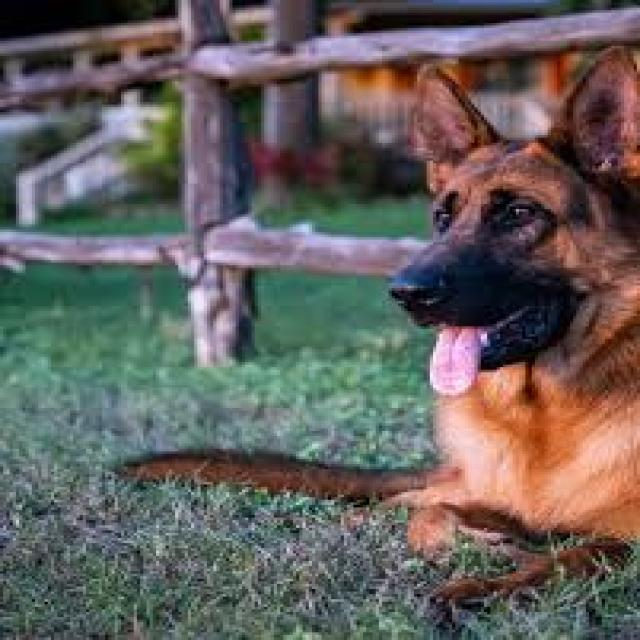Dog: (102, 41, 640, 632)
